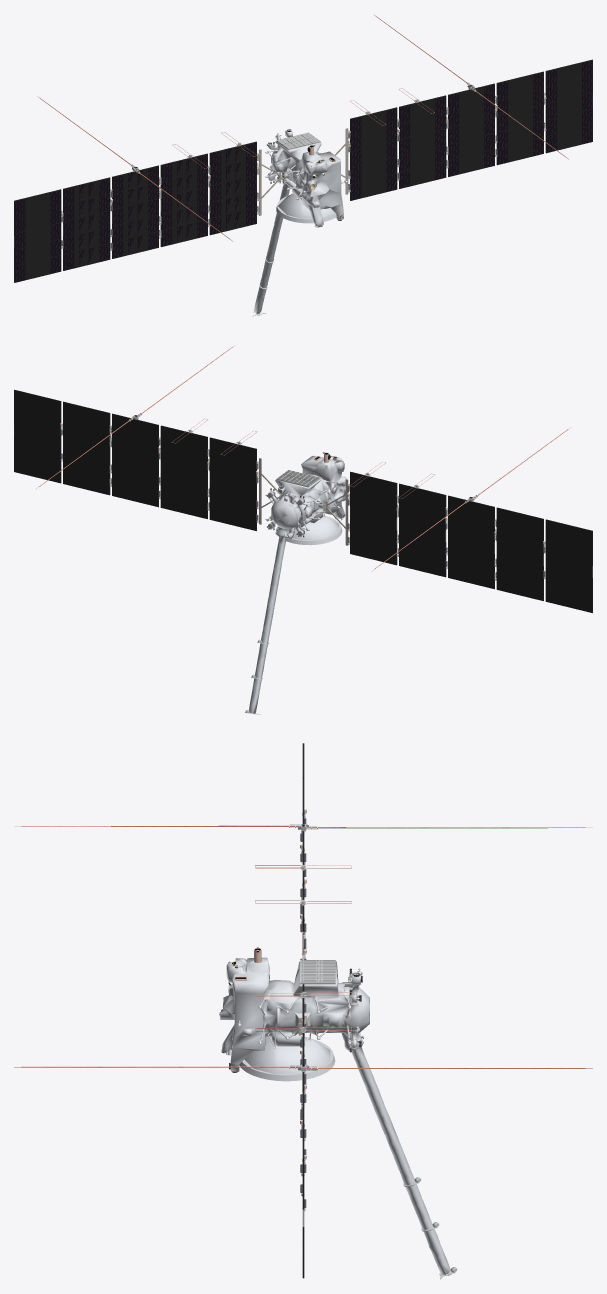
The model's file is europaclipper-lite.glb.
The picture shows the model from 3 angles, top to bottom: view 1: azimuth 30°, elevation 25°; view 2: azimuth 150°, elevation 25°; view 3: azimuth 270°, elevation 25°; orthographic projection. The views are drawn at different scales.
Visible parts, largest first — view 1: solar_cells_chassis, solar_cells, blanket_hideable, blanket_soft, reason, bus_exposed, blanket_hard; view 2: solar_cells_chassis, blanket_hideable, blanket_soft, reason, bus_exposed, blanket_hard; view 3: blanket_hideable, blanket_soft, reason, solar_cells_chassis, blanket_hard, bus_exposed.
Boxes of the visible parts, box(x1,y1,x2,y2) form: solar_cells_chassis: box(14, 59, 592, 282); solar_cells: box(14, 60, 592, 282); blanket_hideable: box(254, 130, 343, 314); blanket_soft: box(268, 135, 333, 218); reason: box(37, 15, 568, 241); bus_exposed: box(265, 132, 347, 227); blanket_hard: box(267, 150, 345, 223); solar_cells_chassis: box(14, 389, 592, 612); blanket_hideable: box(249, 456, 349, 713); blanket_soft: box(270, 474, 338, 540); reason: box(36, 345, 571, 570); bus_exposed: box(265, 470, 345, 539); blanket_hard: box(267, 472, 345, 545); blanket_hideable: box(220, 957, 450, 1274); blanket_soft: box(244, 961, 369, 1074); reason: box(14, 824, 592, 1071); solar_cells_chassis: box(298, 743, 306, 1278); blanket_hard: box(238, 976, 351, 1081); bus_exposed: box(221, 960, 363, 1055).
Size of the model in its own units: 30.5 by 11.25 by 18.
Materials: 16 (13 with a texture image).
